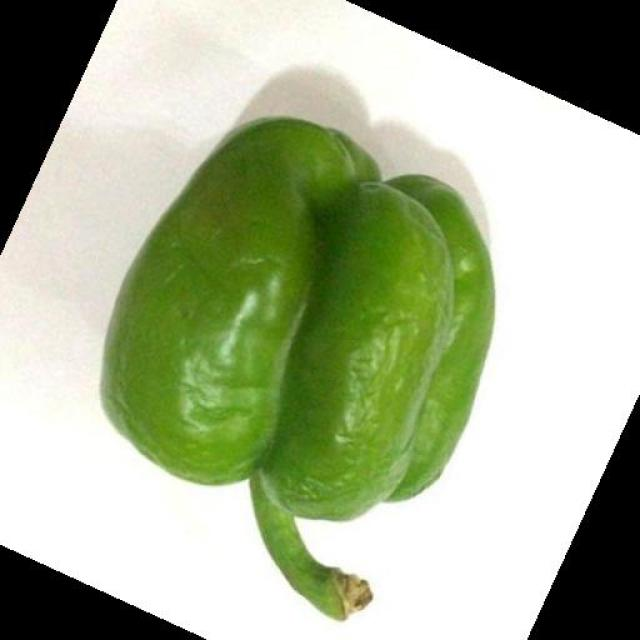Fresh_Capsicum: (143, 89, 445, 550)
